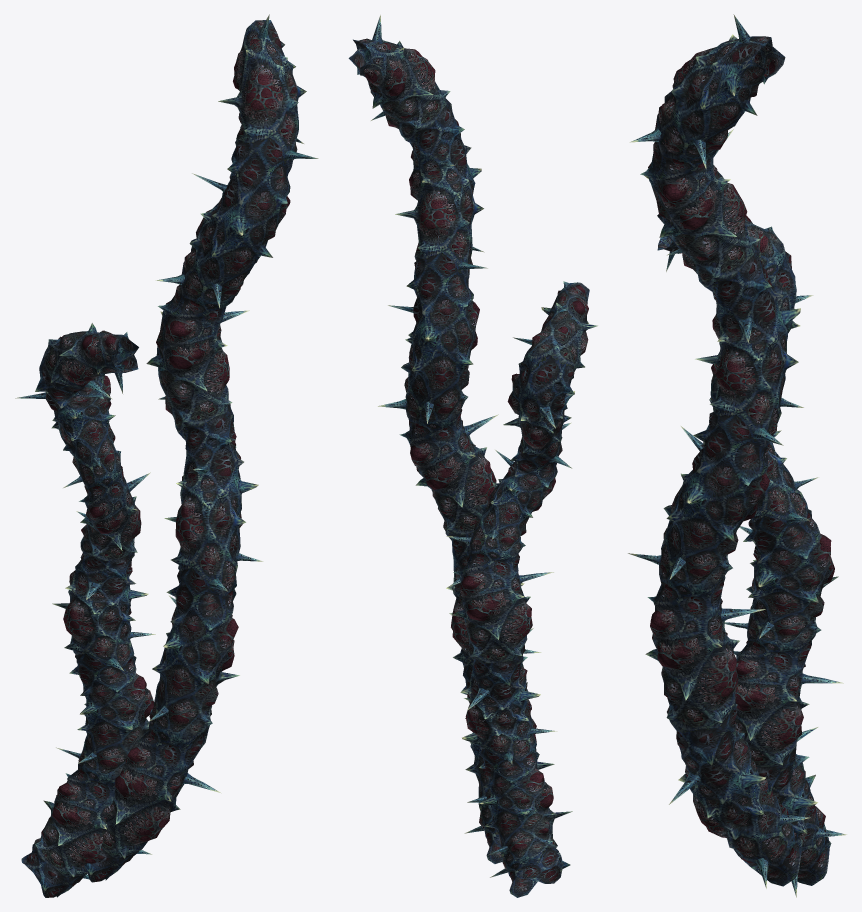
The model's file is backup.fbx.
3 renders of one model, left to right at view 1: azimuth 30°, elevation 25°; view 2: azimuth 150°, elevation 25°; view 3: azimuth 270°, elevation 25°, orthographic. The views are drawn at different scales.
Parts seen in each view (by area): view 1: LODGroup_1_MainMesh_1_SubMesh_1; view 2: LODGroup_1_MainMesh_1_SubMesh_1; view 3: LODGroup_1_MainMesh_1_SubMesh_1.
Part boxes in pixels (<box>): LODGroup_1_MainMesh_1_SubMesh_1: <box>15,14,318,897</box>; LODGroup_1_MainMesh_1_SubMesh_1: <box>348,15,597,897</box>; LODGroup_1_MainMesh_1_SubMesh_1: <box>628,14,846,897</box>.
Bounding box in the file's own units: 490 × 1634 × 337.
